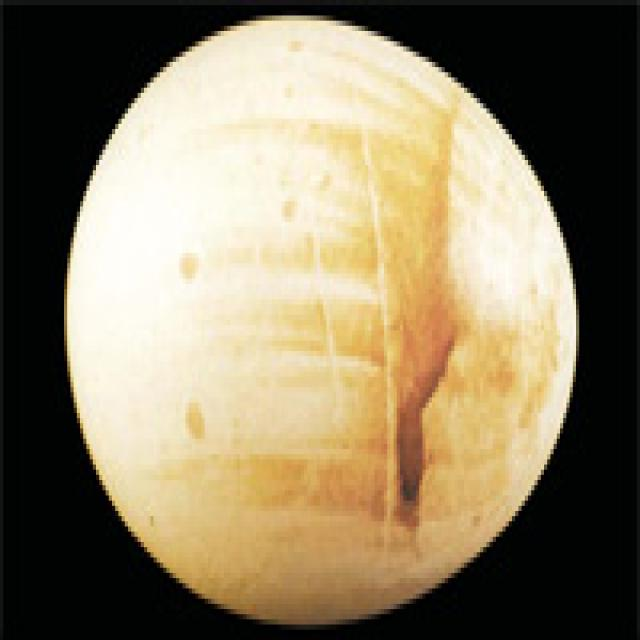Blood Stained Egg: (67, 7, 592, 640)
